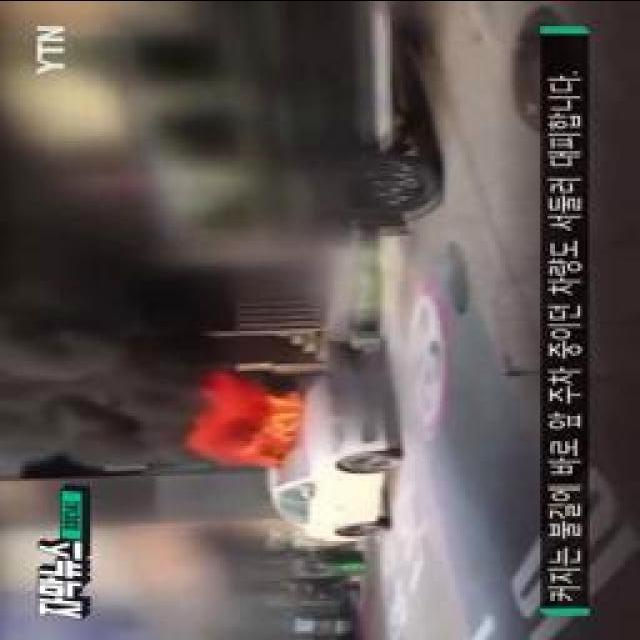Fire: (209, 380, 305, 463)
